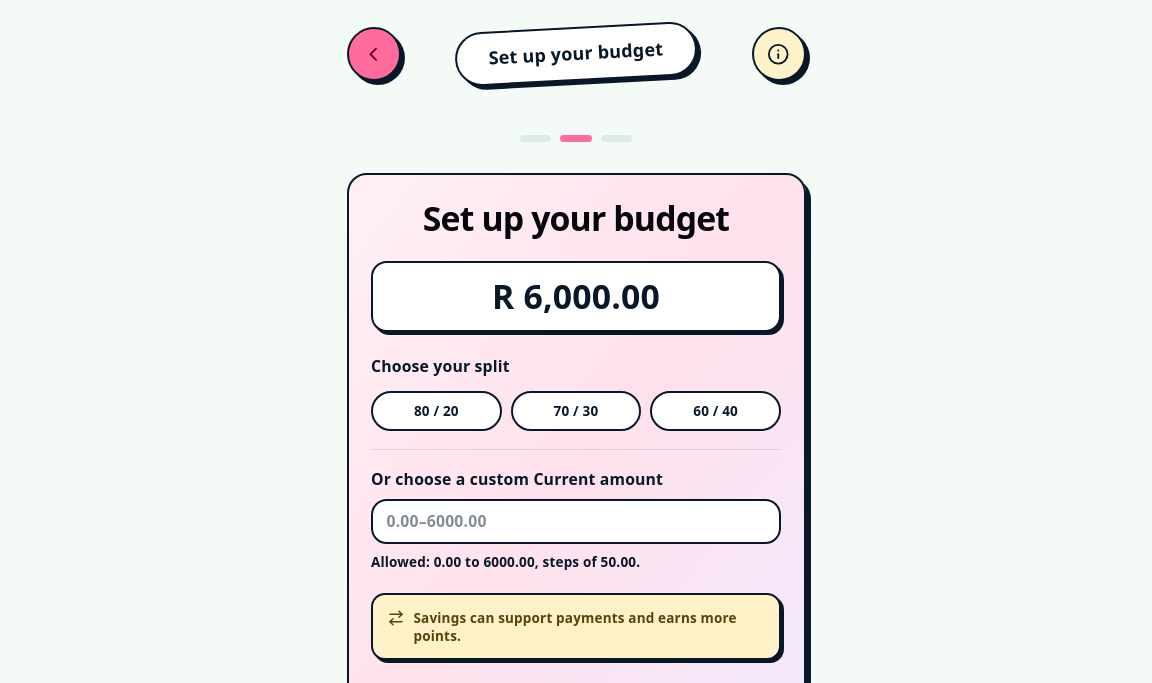
Test case: Simulation allocation and planning › shows information specific to the budget setup page
Click the button named "about simulated month".
click(778, 54)  # box [752,27,806,81]
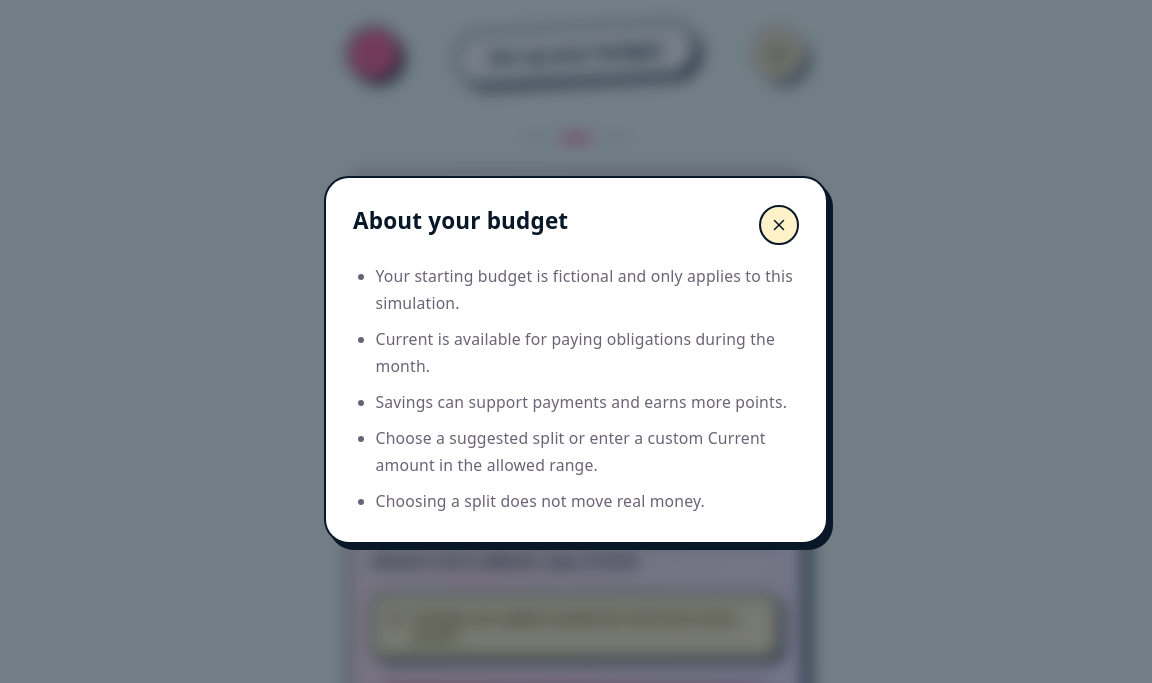
Expected: the dialog "About your budget" shows "current is available for paying obligations", [376,328,775,377]
Expected: the dialog "About your budget" shows "does not move real money", [376,490,705,512]
